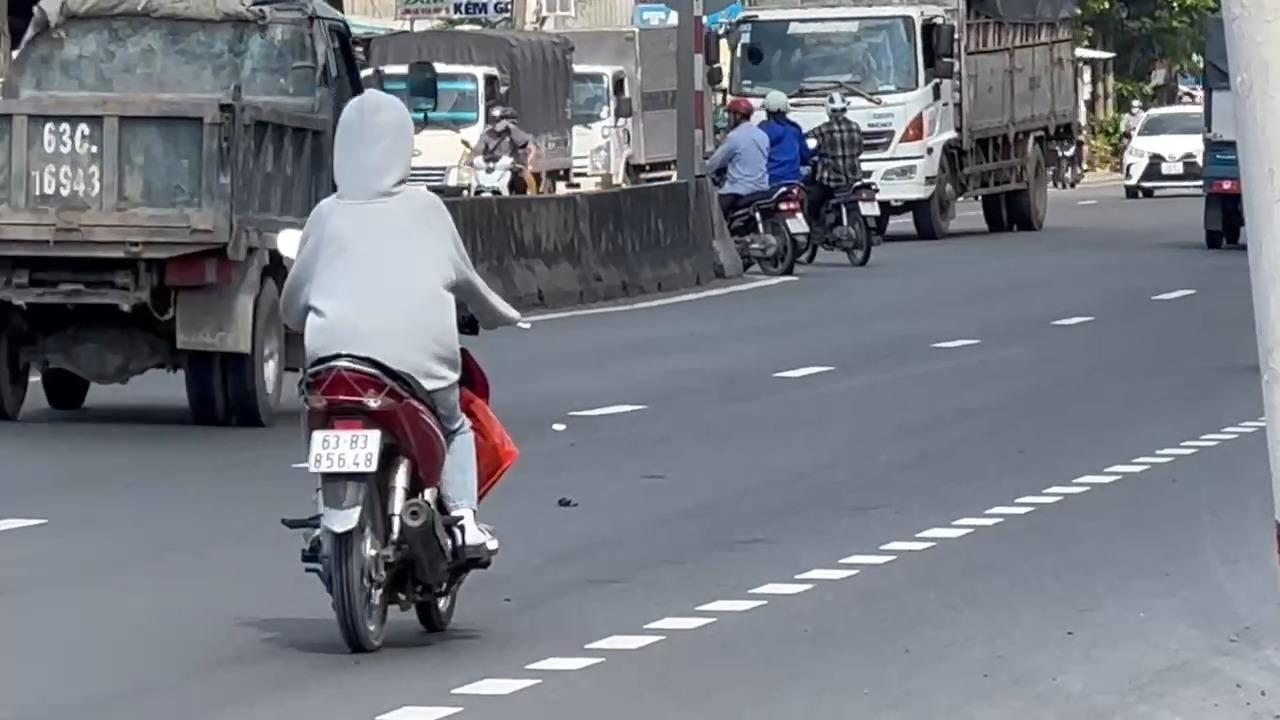bien_so: (306, 427, 381, 474)
